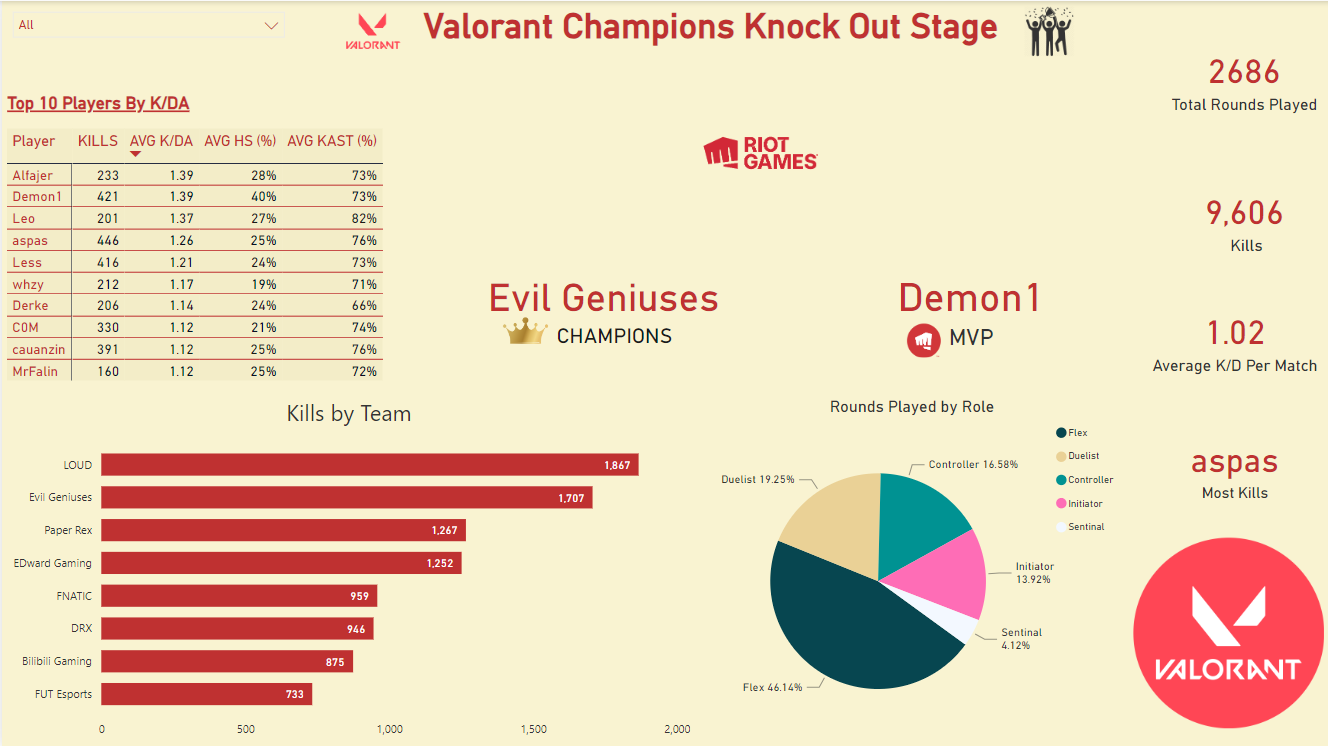

The dashboard page shown, as its layout file describes it:
{"tool":"powerbi","page":{"name":"Page 1","canvas":[1280,720],"ordinal":0},"visuals":[{"type":"textbox","box":[267.5,0,832.5,73.8],"z":0,"group":"g1"},{"type":"card","fields":{"Values":["Min(valorant champions la.Total Rounds)"]},"box":[1117.9,0,161.6,148.3],"z":0,"group":"g2"},{"type":"barChart","title":"Kills by Team","fields":{"Category":["valorant champions la.Team"],"Y":["Sum(valorant champions la.Kill)"]},"box":[0,382.3,669.3,337.7],"z":0},{"type":"image","box":[935,0,151.2,58.8],"z":1000,"group":"g1"},{"type":"pieChart","title":"Rounds Played by Role","fields":{"Category":["valorant champions la.Role"],"Y":["Sum(valorant champions la.Rounds Played)"]},"box":[669.3,382.3,417.3,337.7],"z":1000},{"type":"card","fields":{"Values":["Min(valorant champions la.Player)"]},"box":[1099.8,382.3,179.7,133.9],"z":1000,"group":"g2"},{"type":"textbox","box":[0,83.2,377.5,47],"z":1500},{"type":"image","box":[282.5,0,151.2,58.8],"z":2000,"group":"g1"},{"type":"pivotTable","fields":{"Rows":["valorant champions la.Player"],"Values":["Sum(valorant champions la.Kill)","Avg(valorant champions la.K/D)","Avg(valorant champions la.HS (%))","Avg(valorant champions la.KAST (%))"]},"box":[0,118.2,377.5,275],"z":2000},{"type":"card","fields":{"Values":["Sum(valorant champions la.Kill)"]},"box":[1117.9,148.3,161.6,124.2],"z":2000,"group":"g2"},{"type":"image","box":[1086.2,498.8,193.8,221.2],"z":3000,"group":"g2"},{"type":"card","title":"CHAMPIONS","fields":{"Values":["Min(valorant champions la.Team)"]},"box":[377.5,206.2,406.2,176.2],"z":4000},{"type":"card","fields":{"Values":["Avg(valorant champions la.K/D)"]},"box":[1099.8,270.2,179.7,112.2],"z":4000,"group":"g2"},{"type":"image","box":[471.2,282.5,66.2,67.5],"z":5000},{"type":"card","fields":{"Values":["Min(valorant champions la.Player)"]},"box":[783.8,206.2,302.5,176.2],"z":6000},{"type":"image","box":[377.5,83.8,708.8,126.2],"z":7000},{"type":"group","id":"g1","title":"Group 1","box":[267.5,0,832.5,73.8],"z":8000},{"type":"group","id":"g2","title":"Group 2","box":[1086.2,0,193.8,720],"z":9000},{"type":"slicer","fields":{"Values":["valorant champions la.Team"]},"box":[0,0,282.5,73.8],"z":10000},{"type":"image","box":[858.7,306.3,61.5,42.2],"z":11000}]}

Visuals, with their boxes in screenshot pixels (x1, y1, x2, y2), scaled from the page's 1280x720 canvas onto the 1328x746 screenshot:
textbox: bbox=(278, 0, 1141, 76)
card - Min(valorant champions la.Total Rounds): bbox=(1160, 0, 1327, 154)
"Kills by Team" barChart: bbox=(0, 396, 694, 745)
image: bbox=(970, 0, 1127, 61)
"Rounds Played by Role" pieChart: bbox=(694, 396, 1127, 745)
card - Min(valorant champions la.Player): bbox=(1141, 396, 1327, 535)
textbox: bbox=(0, 86, 392, 135)
image: bbox=(293, 0, 450, 61)
pivotTable - valorant champions la.Player x Sum(valorant champions la.Kill): bbox=(0, 122, 392, 407)
card - Sum(valorant champions la.Kill): bbox=(1160, 154, 1327, 282)
image: bbox=(1127, 517, 1327, 745)
"CHAMPIONS" card: bbox=(392, 214, 813, 396)
card - Avg(valorant champions la.K/D): bbox=(1141, 280, 1327, 396)
image: bbox=(489, 293, 558, 363)
card - Min(valorant champions la.Player): bbox=(813, 214, 1127, 396)
image: bbox=(392, 87, 1127, 218)
"Group 1" group: bbox=(278, 0, 1141, 76)
"Group 2" group: bbox=(1127, 0, 1327, 745)
slicer - valorant champions la.Team: bbox=(0, 0, 293, 76)
image: bbox=(891, 317, 955, 361)
